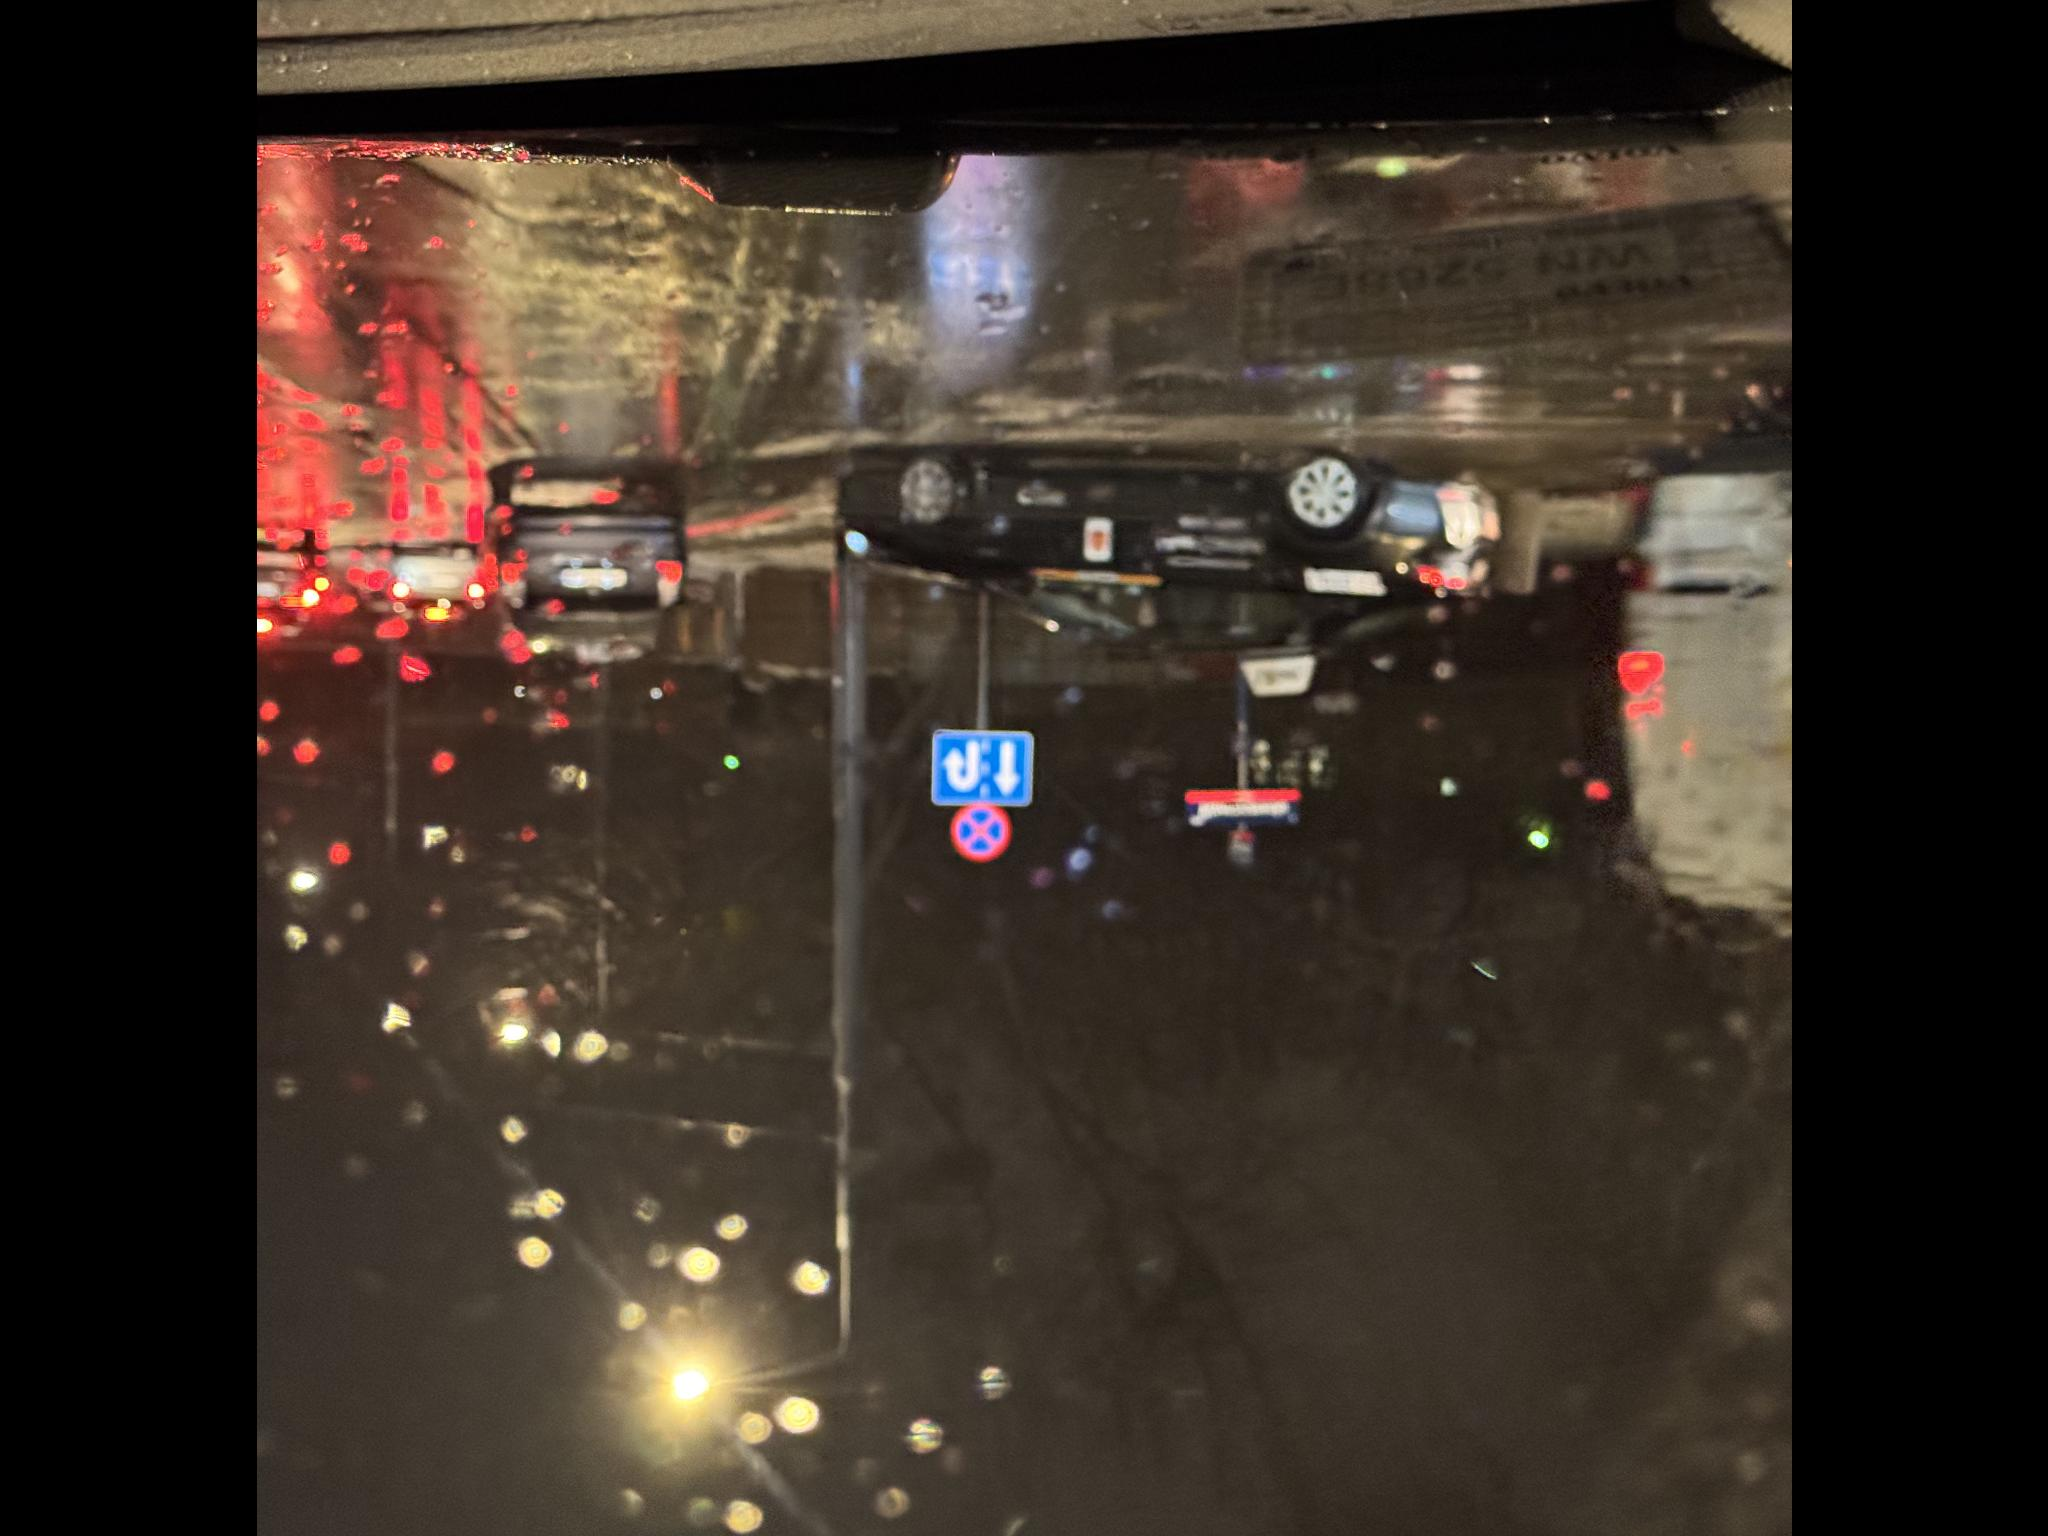other: (730, 1014, 806, 1118)
prohibitory: (802, 1037, 862, 1099)
